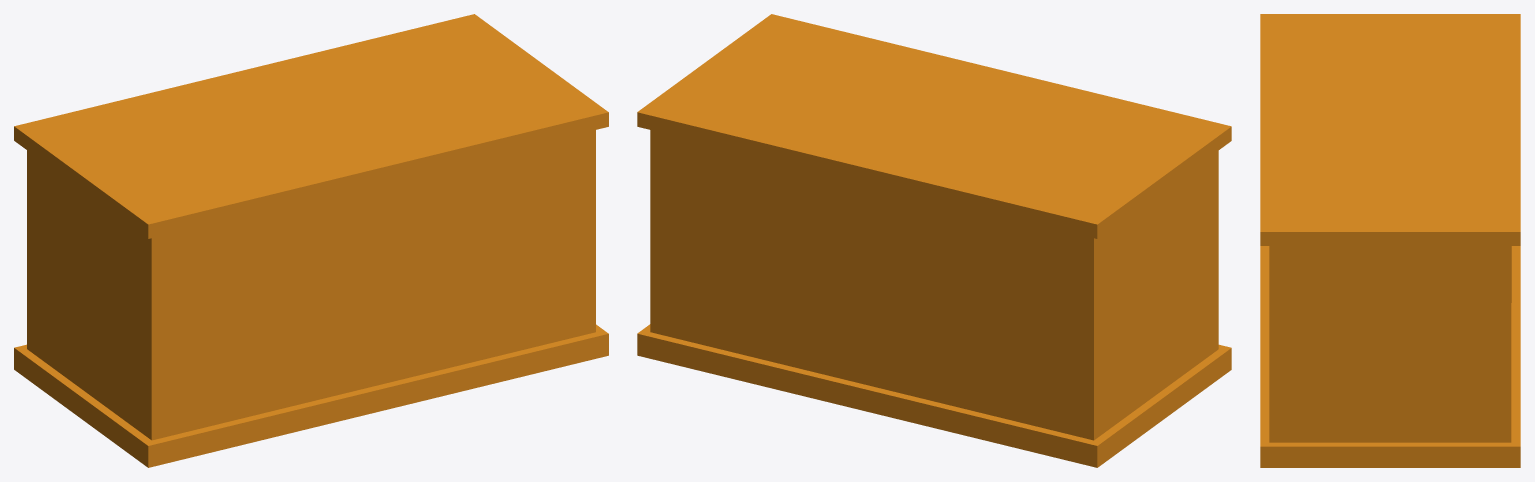
The model's file is LP_Container.fbx.
3 renders of one model, left to right at view 1: azimuth 30°, elevation 25°; view 2: azimuth 150°, elevation 25°; view 3: azimuth 270°, elevation 25°, orthographic. The views are drawn at different scales.
Parts seen in each view (by area): view 1: Container; view 2: Container; view 3: Container.
Part boxes in pixels (x1=…): Container: x1=14, y1=14, x2=608, y2=467; Container: x1=637, y1=14, x2=1231, y2=467; Container: x1=1260, y1=14, x2=1520, y2=467.
Size of the model in its own units: 396 by 200 by 200.
